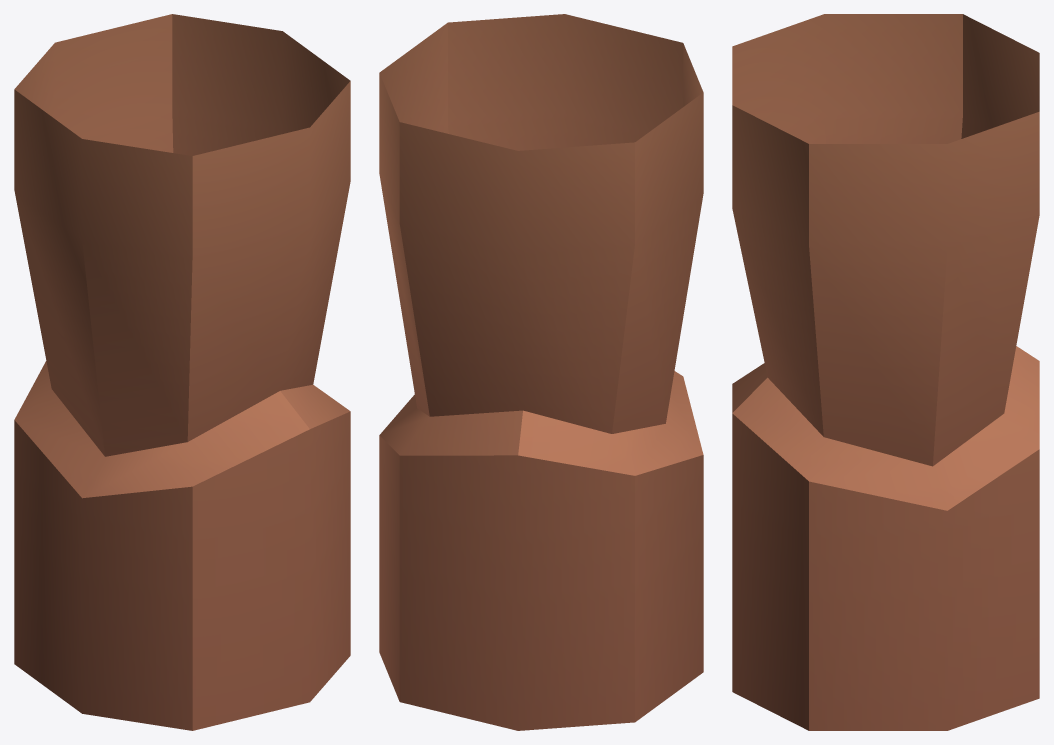
The model's file is Hill_Cliff_Tall_E_Color8.fbx.
The picture shows the model from 3 angles, left to right: view 1: azimuth 30°, elevation 25°; view 2: azimuth 150°, elevation 25°; view 3: azimuth 270°, elevation 25°; orthographic projection. The views are drawn at different scales.
Parts seen in each view (by area): view 1: Hill_Cliff_Tall_E_Color8; view 2: Hill_Cliff_Tall_E_Color8; view 3: Hill_Cliff_Tall_E_Color8.
Part boxes in pixels (box(x1,y1,x2,y2)): Hill_Cliff_Tall_E_Color8: box(14, 14, 350, 730); Hill_Cliff_Tall_E_Color8: box(379, 14, 703, 730); Hill_Cliff_Tall_E_Color8: box(732, 14, 1039, 730).
Size of the model in its own units: 1.9 by 4 by 1.9.
